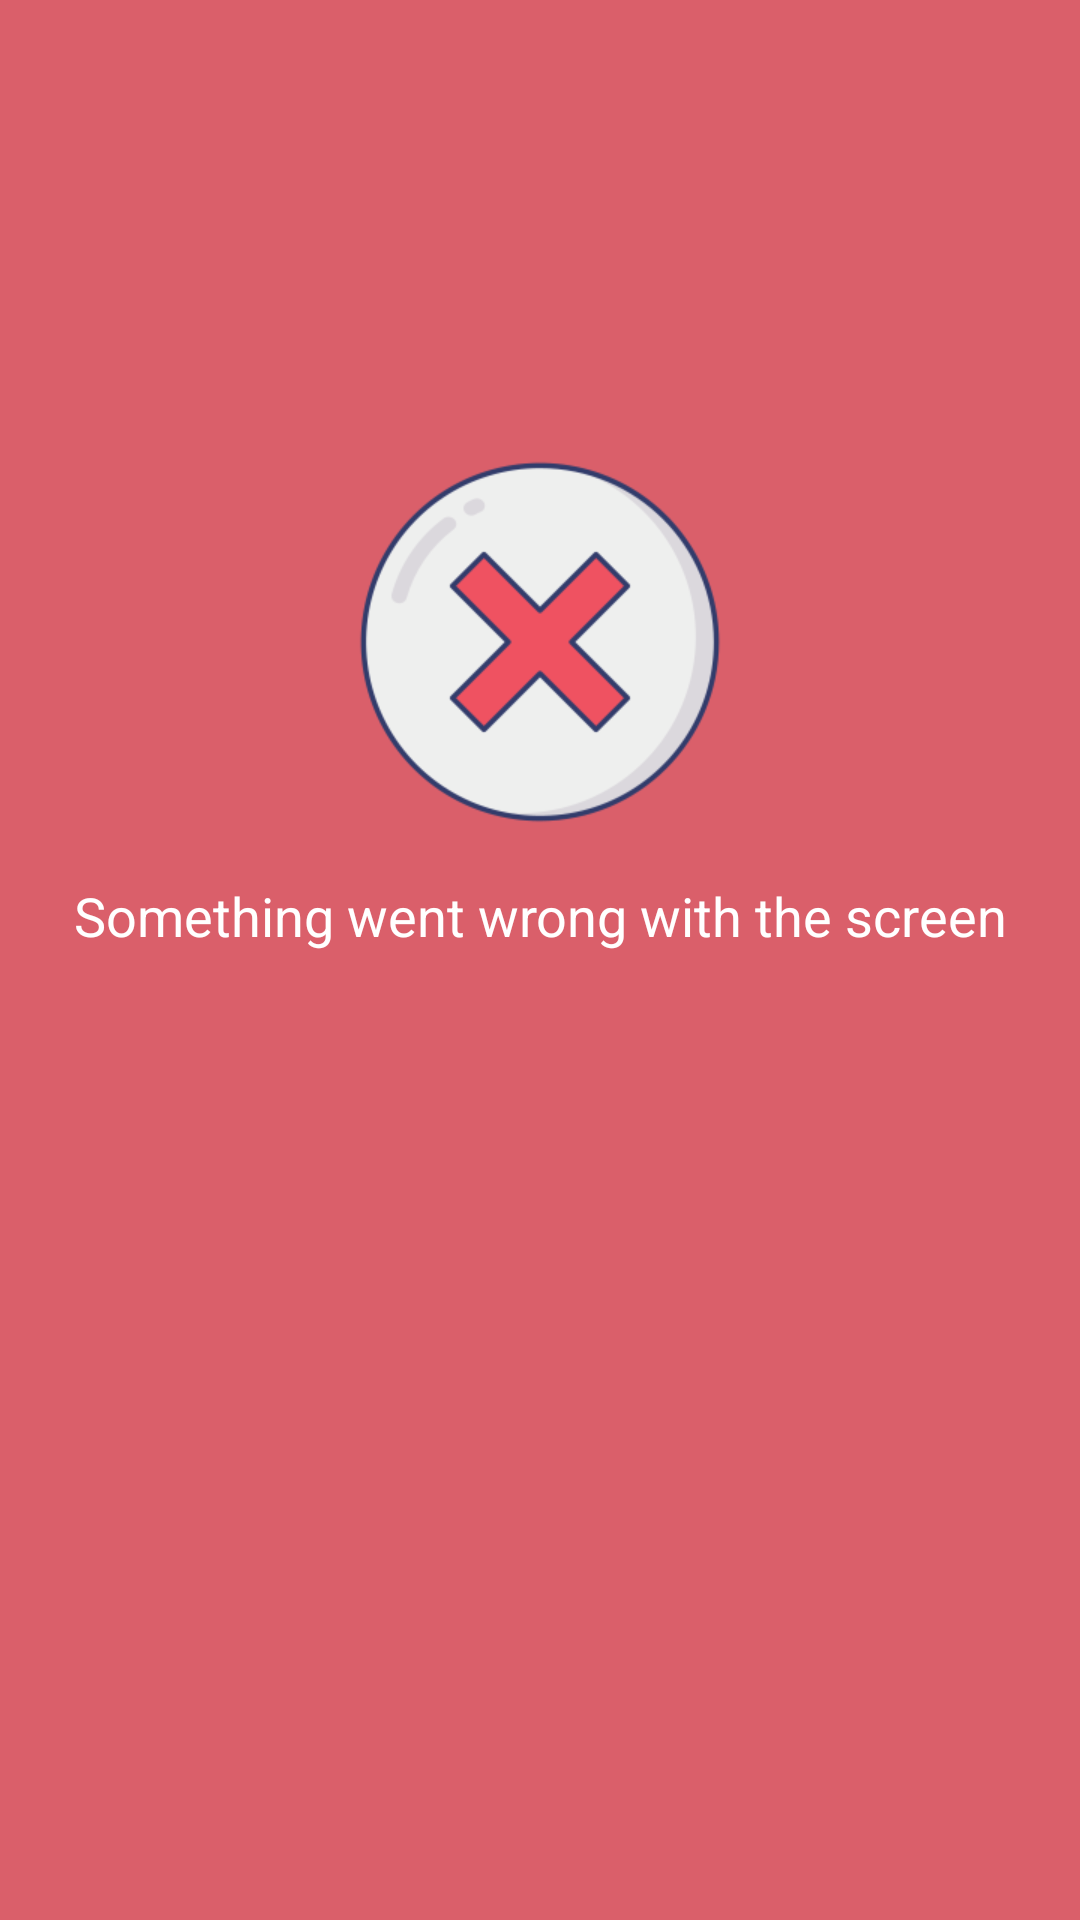

Named icons in this screenshot (1080 × 1920) and their bounding boxes, (x1, y1, x2, y2):
alert: (360, 462, 720, 822)
